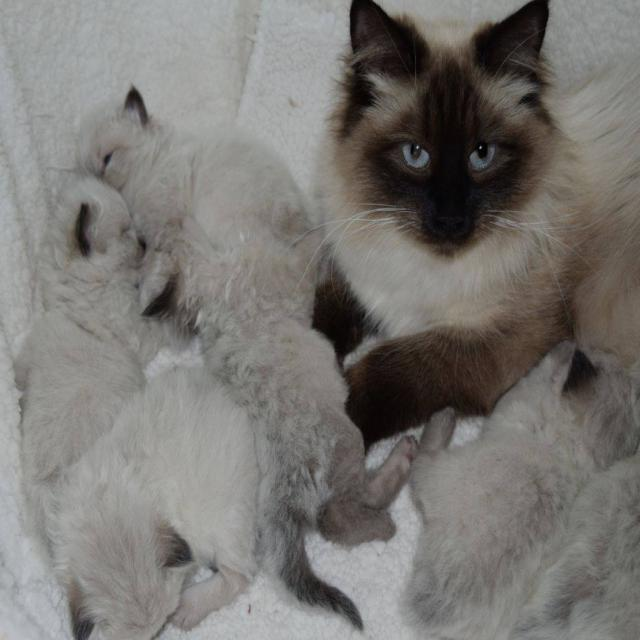Neva Masquerade: (303, 0, 640, 431)
